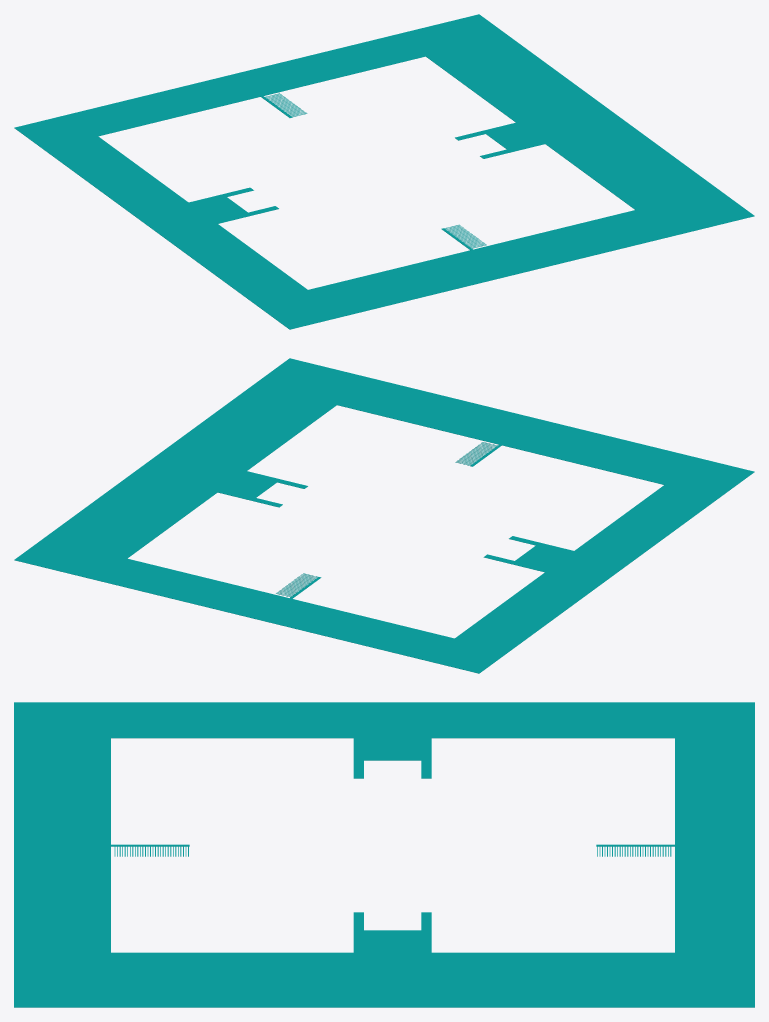
The picture shows the model from 3 angles, top to bottom: view 1: azimuth 30°, elevation 25°; view 2: azimuth 150°, elevation 25°; view 3: azimuth 270°, elevation 25°; orthographic projection. The views are drawn at different scales.
Parts seen in each view (by area): view 1: BOX; view 2: BOX; view 3: BOX.
Part boxes in pixels (left/top/right/bottom): BOX: left=14, top=14, right=754, bottom=329; BOX: left=14, top=358, right=754, bottom=673; BOX: left=14, top=702, right=754, bottom=1007.
Bounding box in the file's own units: 856 × 0.3216 × 878.
